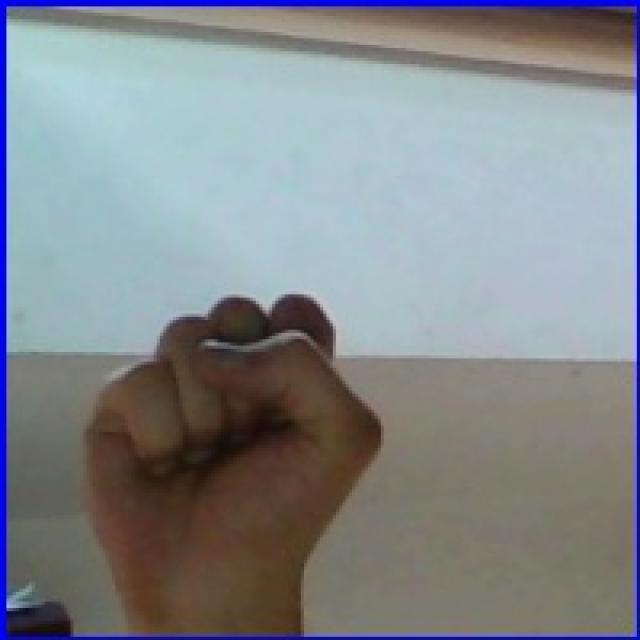Letra-S: (69, 261, 399, 620)
